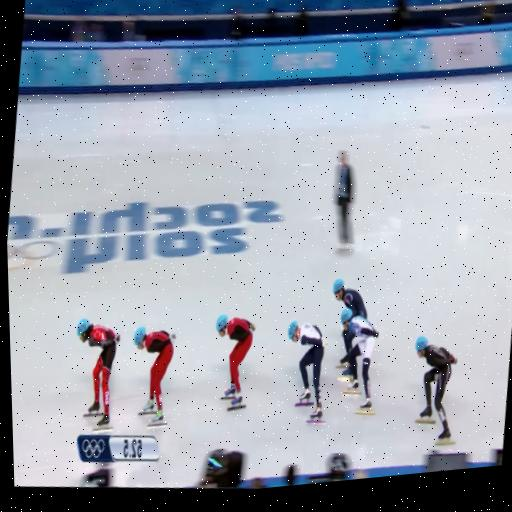Skater: (76, 319, 118, 428), (414, 336, 456, 444), (133, 326, 174, 427), (287, 321, 326, 424), (340, 308, 377, 411), (215, 315, 254, 410), (332, 278, 366, 319)
